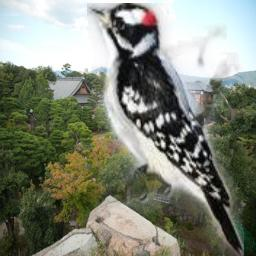Woodpecker: (87, 3, 244, 256)
